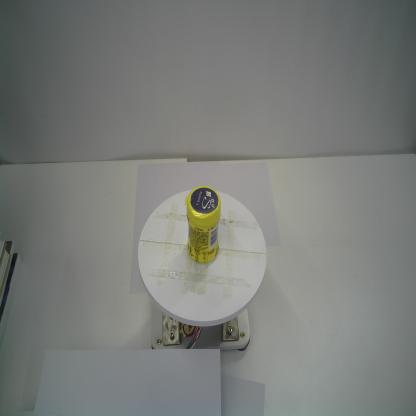Gum: (184, 186, 222, 264)
